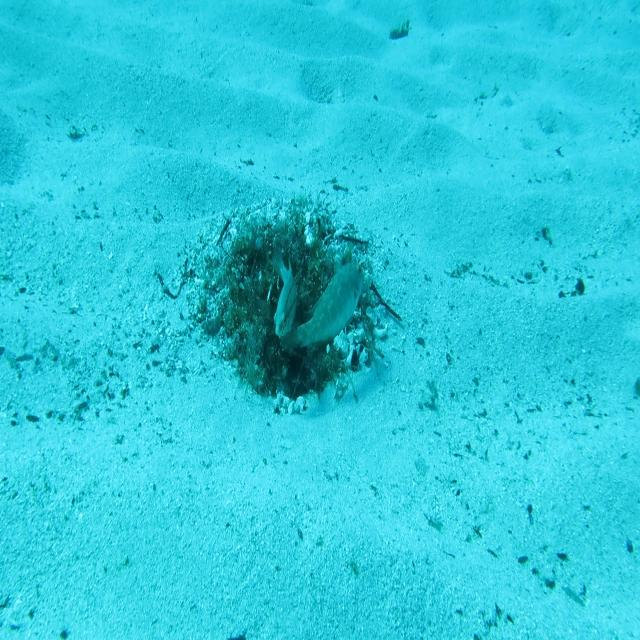BK_SW: (280, 252, 367, 352)
core_nest: (259, 226, 318, 269)
female: (268, 235, 299, 341)
nest: (182, 187, 392, 422)
